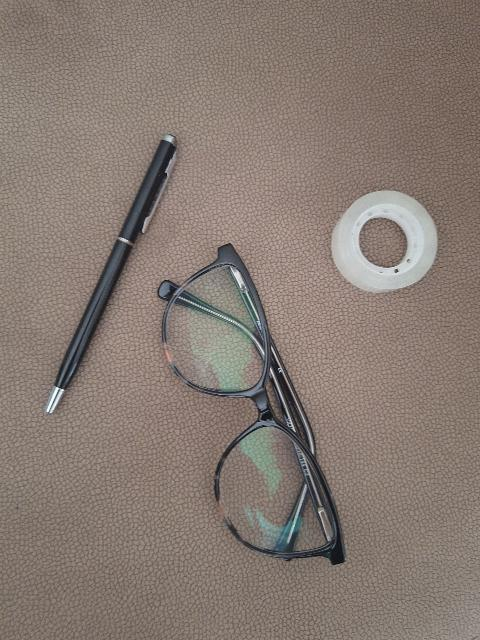writing_tool: (42, 129, 177, 413)
